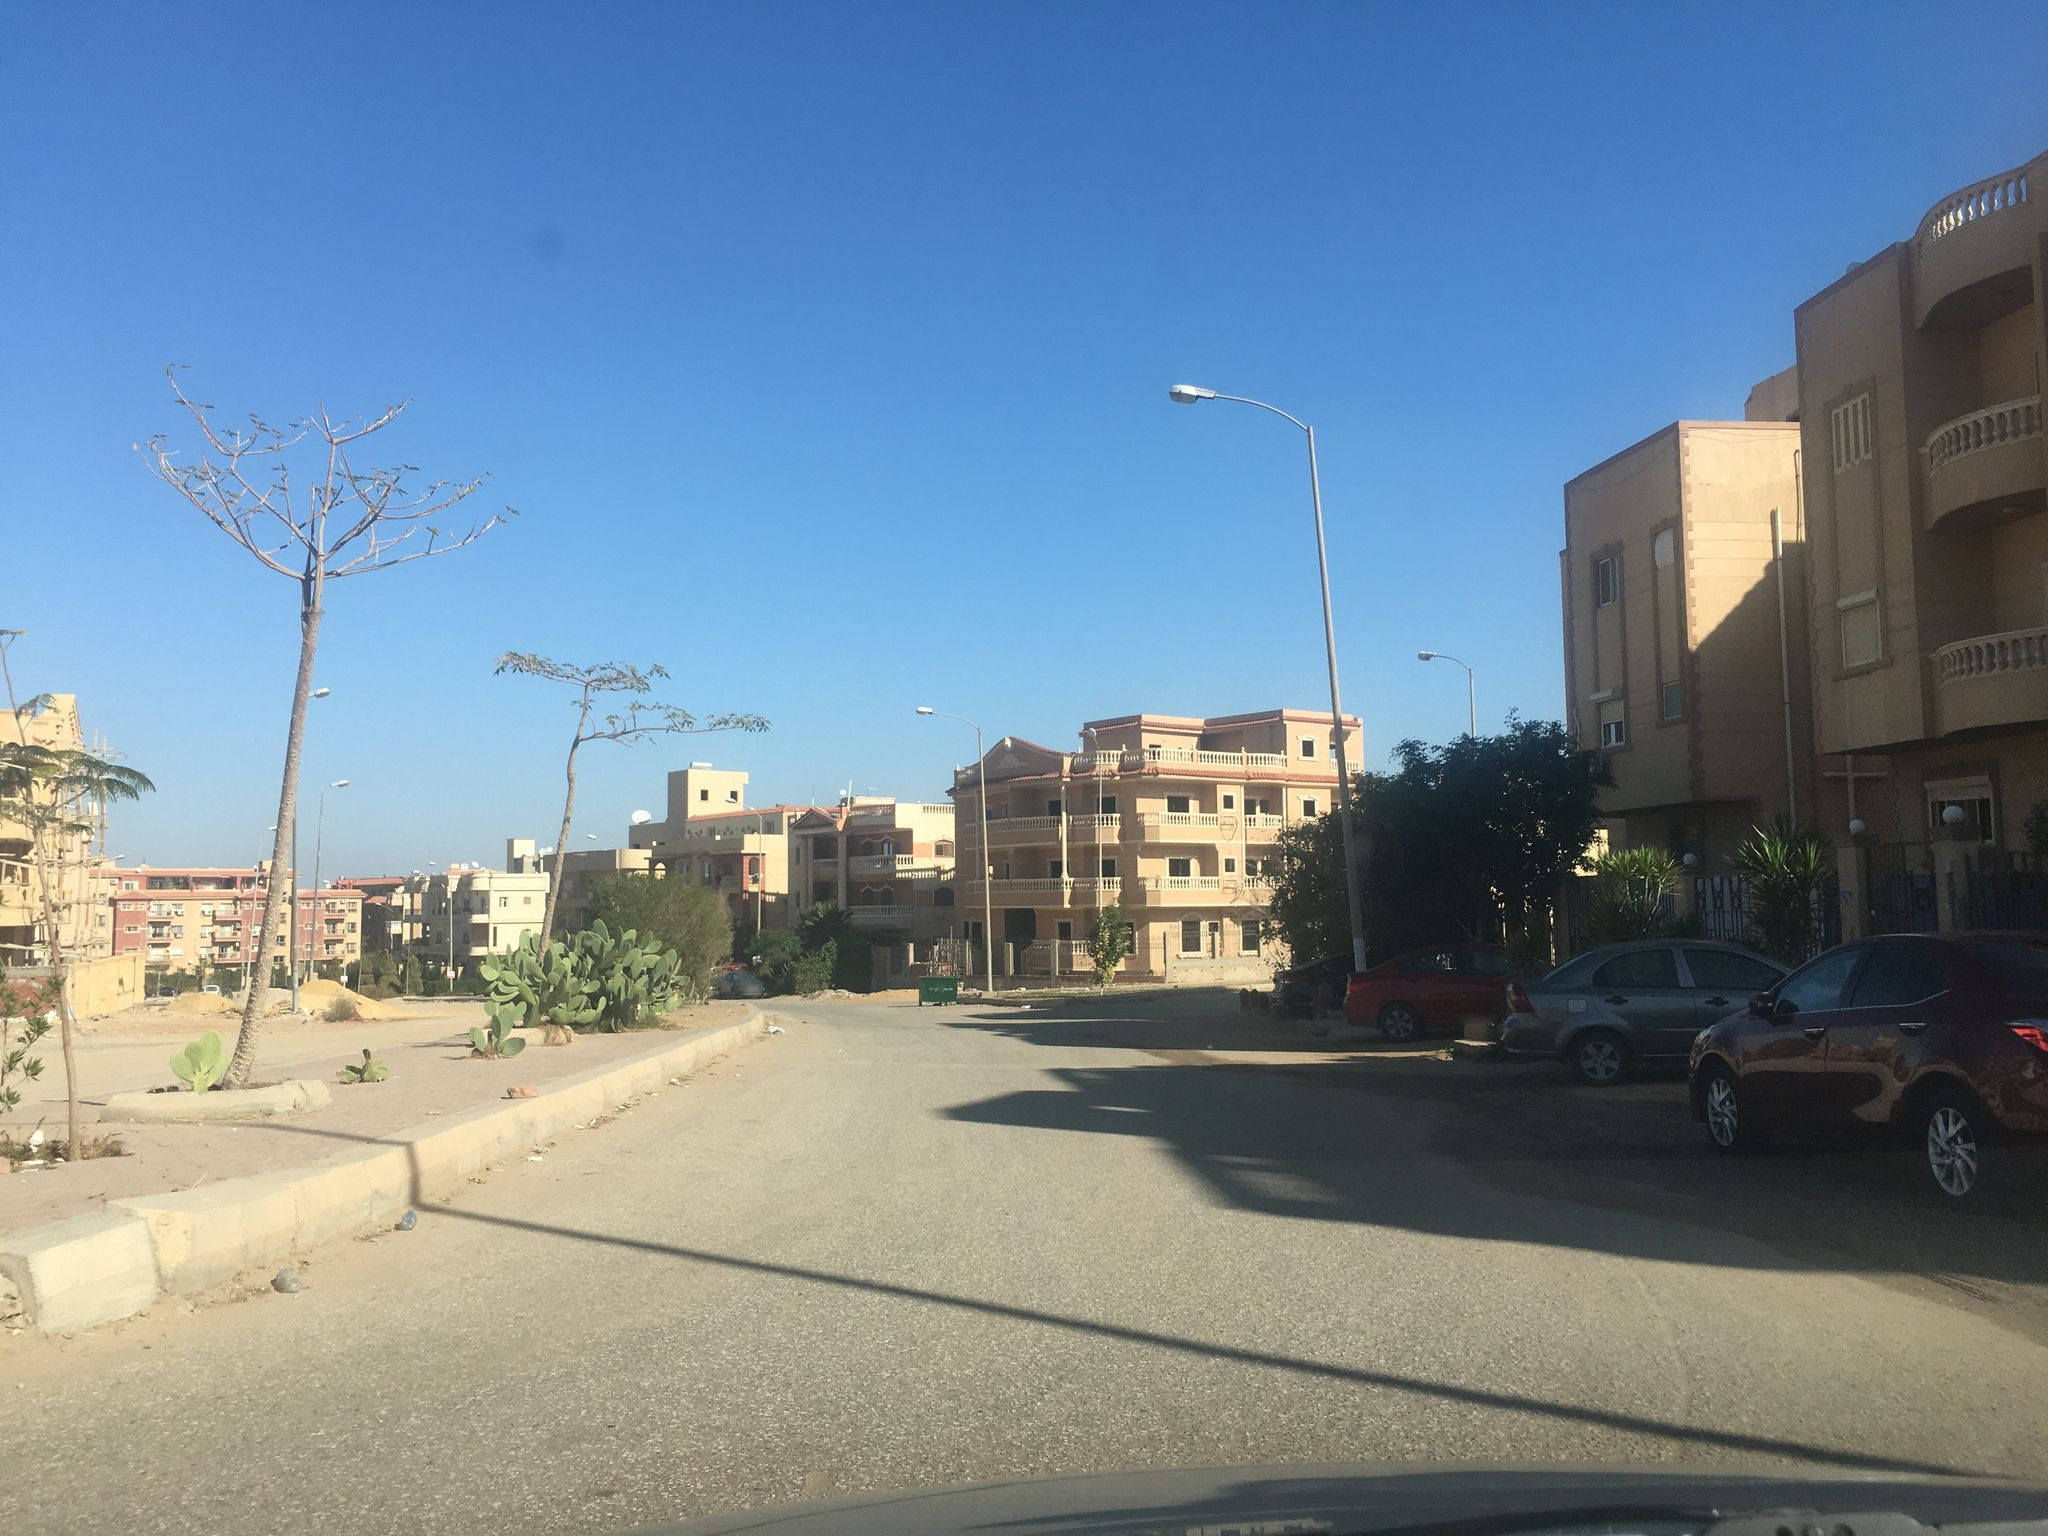car: (1682, 929, 2046, 1200), (1493, 936, 1798, 1087), (1340, 941, 1537, 1044), (1271, 949, 1374, 1008)
